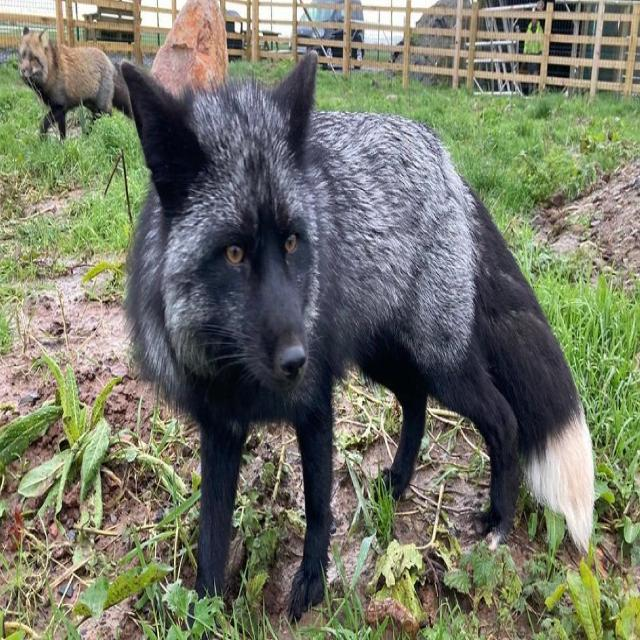fox: (119, 48, 596, 626), (17, 25, 132, 141)
